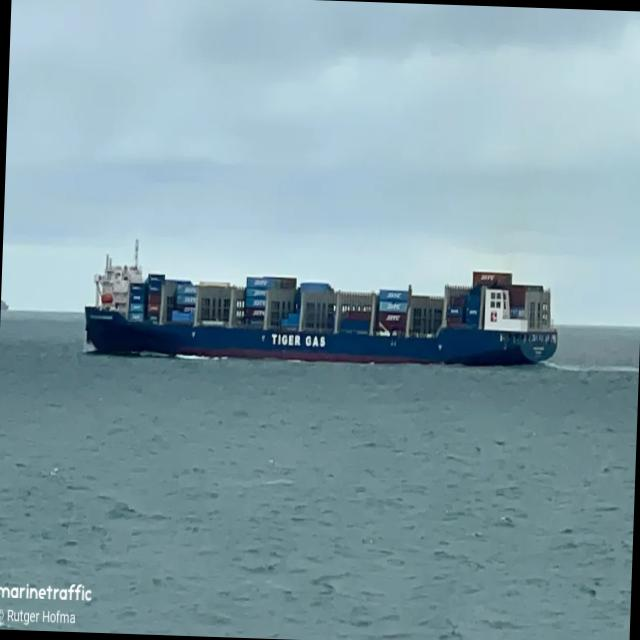Cargo: (84, 262, 557, 365)
